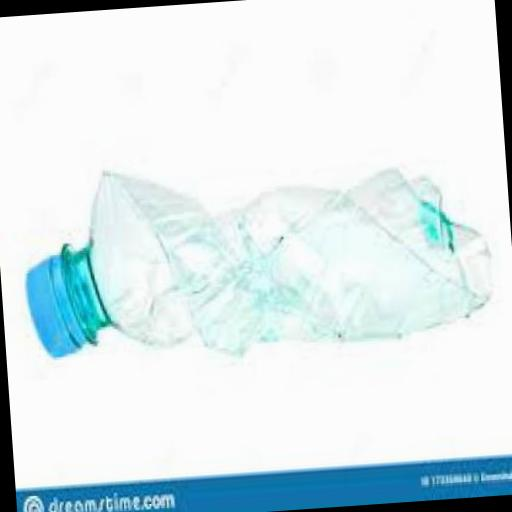plastic: (17, 142, 494, 360), (22, 254, 84, 360)
